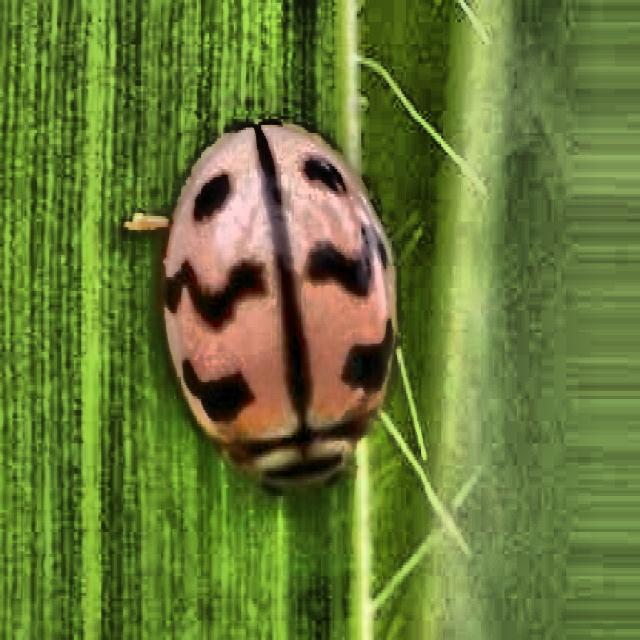Asian-Lady-beetle: (101, 62, 430, 532)
